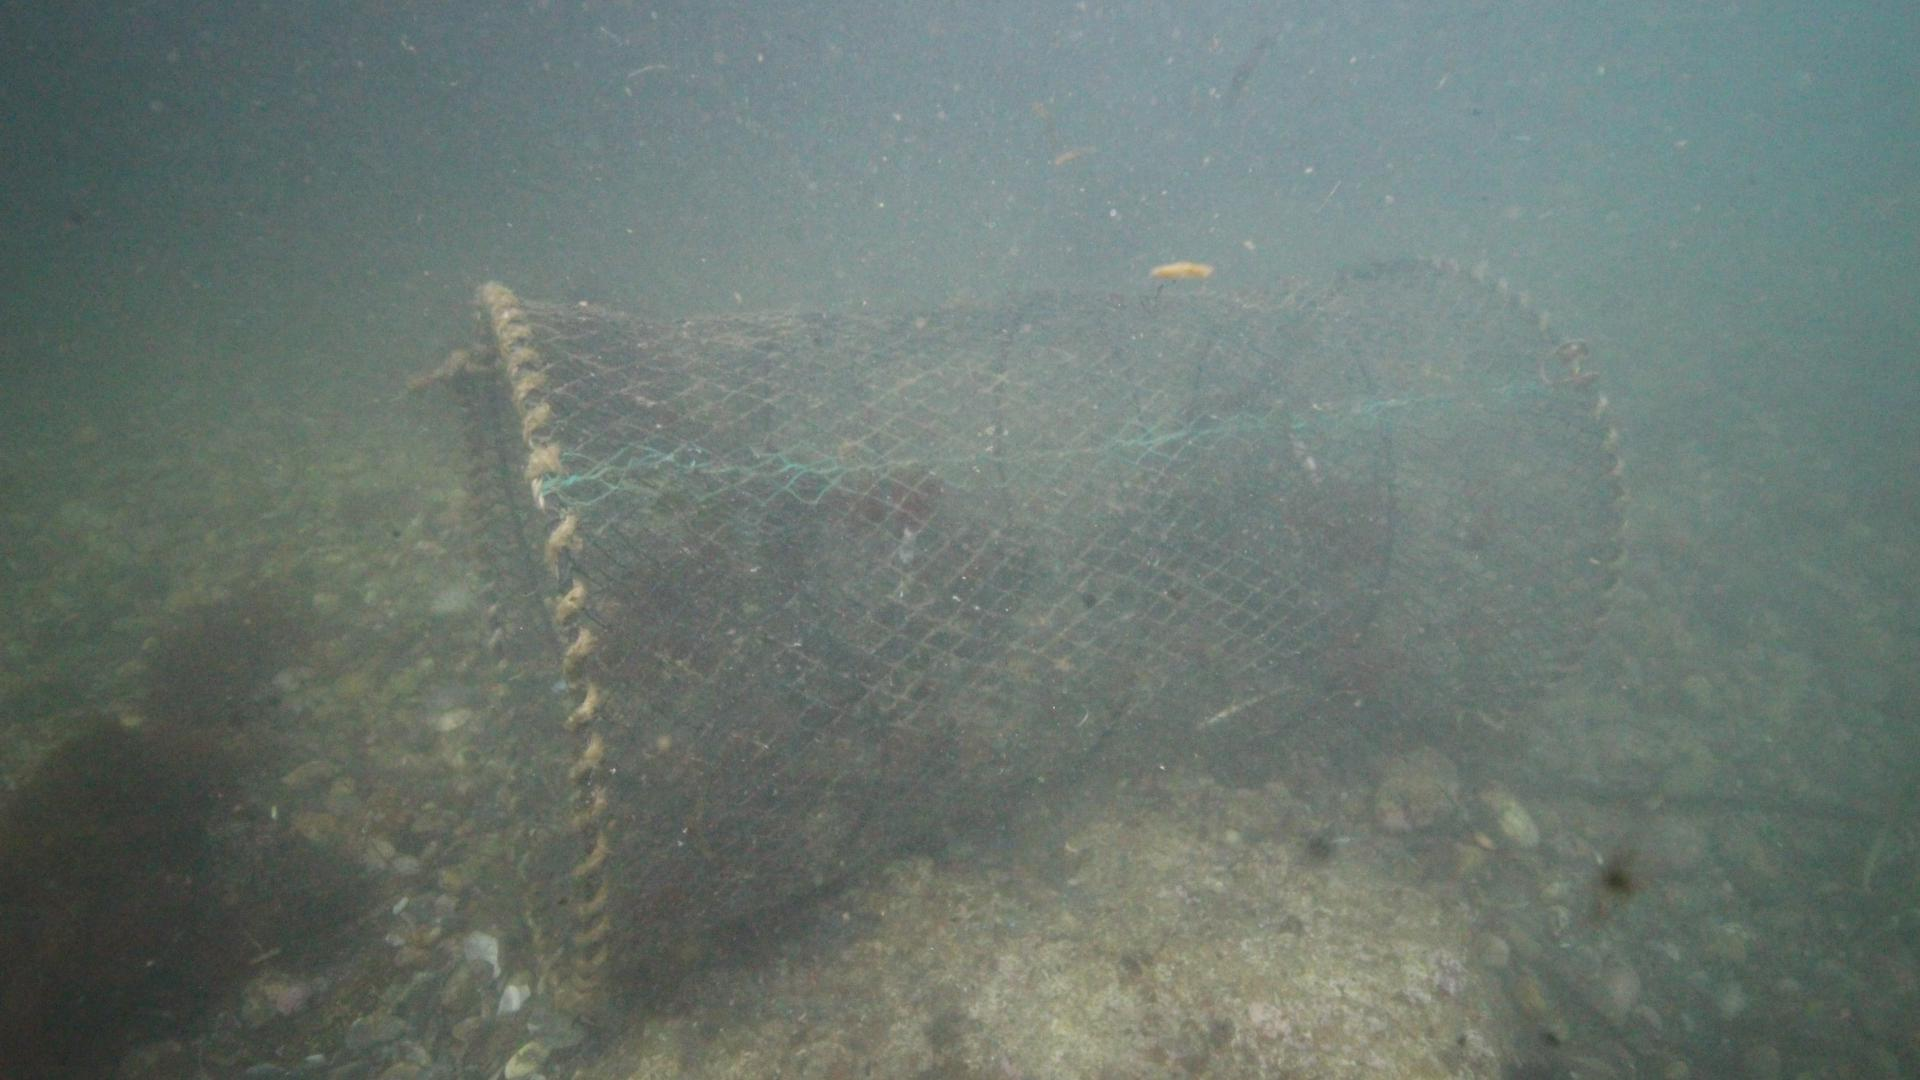spring fish trap: (459, 248, 1636, 1018)
